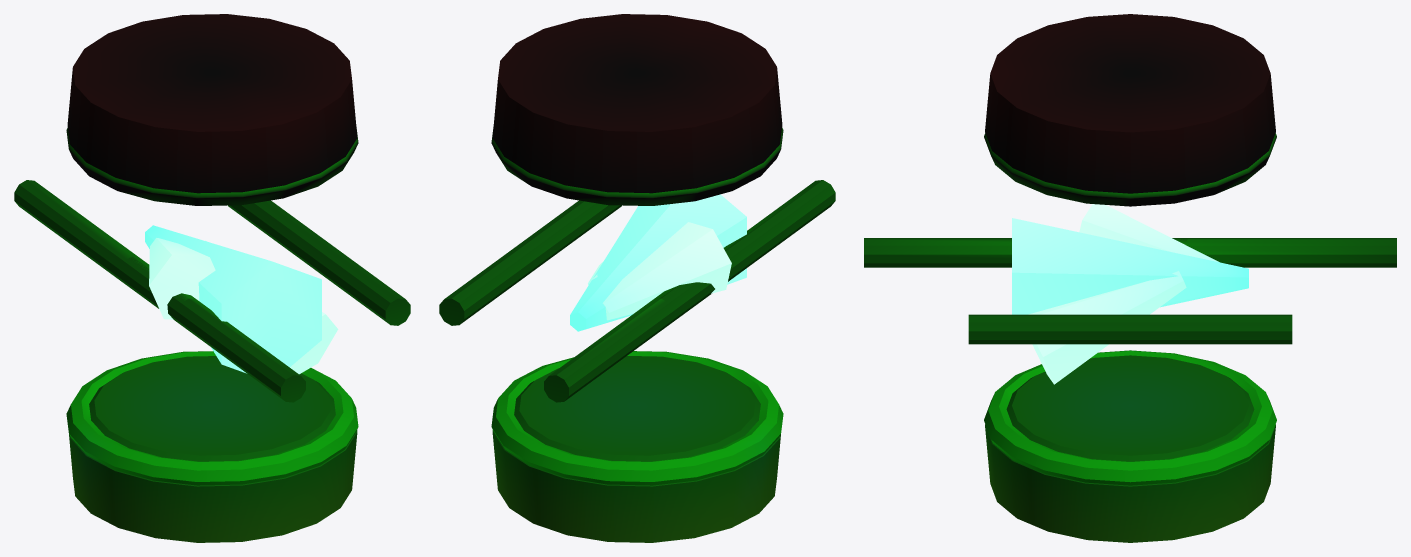
The model's file is hero_sample_crystal.glb.
The picture shows the model from 3 angles, left to right: view 1: azimuth 30°, elevation 25°; view 2: azimuth 150°, elevation 25°; view 3: azimuth 270°, elevation 25°; orthographic projection.
Parts seen in each view (by area): view 1: HeroSampleCrystal; view 2: HeroSampleCrystal; view 3: HeroSampleCrystal.
Part boxes in pixels (x1,y1,x2,y2): HeroSampleCrystal: (14,14,410,542); HeroSampleCrystal: (439,14,835,542); HeroSampleCrystal: (864,14,1396,542).
Bounding box in the file's own units: 0.272 × 0.42 × 0.494.
